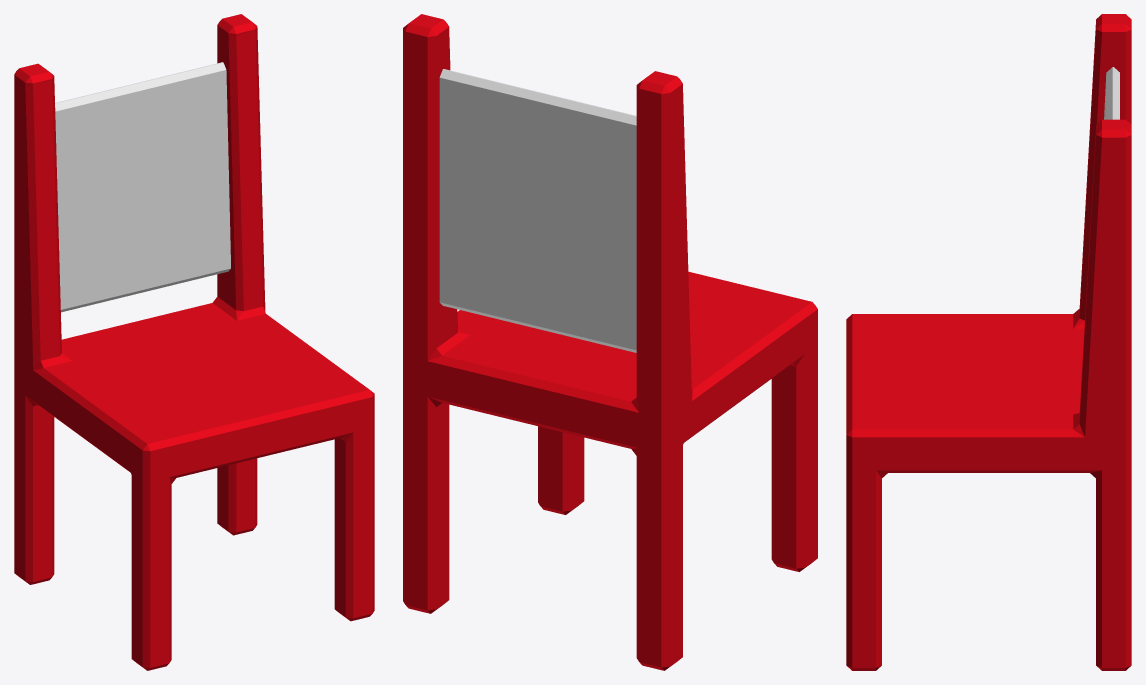
The model's file is chair_red_2.glb.
The picture shows the model from 3 angles, left to right: view 1: azimuth 30°, elevation 25°; view 2: azimuth 150°, elevation 25°; view 3: azimuth 270°, elevation 25°; orthographic projection. The views are drawn at different scales.
Visible parts, largest first — view 1: Cube.001; view 2: Cube.001; view 3: Cube.001.
Part boxes in pixels (left/top/right/bottom): Cube.001: left=14, top=14, right=374, bottom=670; Cube.001: left=403, top=14, right=817, bottom=670; Cube.001: left=846, top=14, right=1131, bottom=670.
Bounding box in the file's own units: 2.34 × 4.9 × 2.34.
